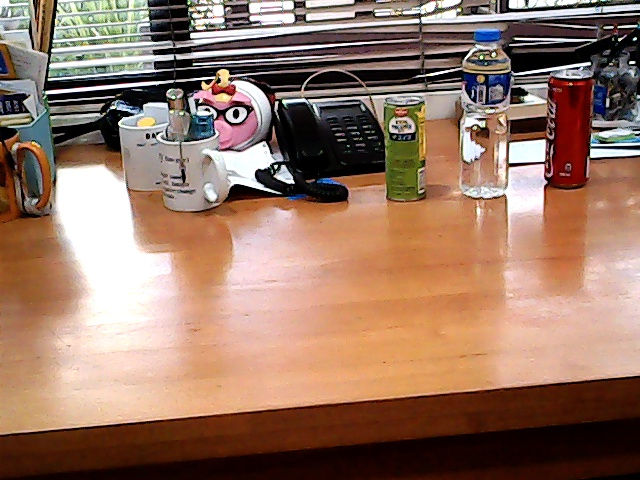Cola: (531, 60, 608, 198)
Pine Juice: (370, 85, 437, 214)
Summit Water: (447, 24, 526, 209)
